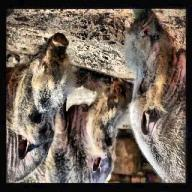boar: (8, 77, 131, 184), (123, 9, 186, 183), (5, 33, 76, 183)
